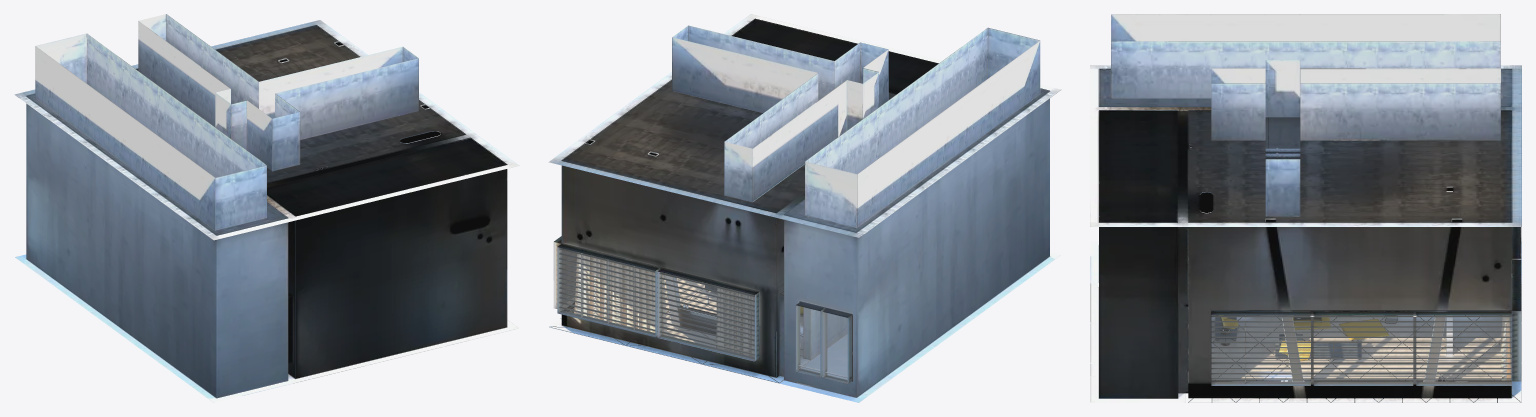
The picture shows the model from 3 angles, left to right: view 1: azimuth 30°, elevation 25°; view 2: azimuth 150°, elevation 25°; view 3: azimuth 270°, elevation 25°; orthographic projection. The views are drawn at different scales.
Visible parts, largest first — view 1: Cube.007_0; view 2: Cube.007_0, Plane.005_0, Cube.009_0, Cube.007_8, Plane.016_5, Cube.007_6; view 3: Cube.007_0, Plane.005_0, Cube.007_8, Cube.009_0, Cube.007_6, Cube.000_1, Plane.016_5, BezierCurve_0.
Boxes of the visible parts, x1,y1,x2,y2 form: Cube.007_0: [14, 14, 519, 402]; Cube.007_0: [548, 14, 1061, 402]; Plane.005_0: [559, 248, 846, 381]; Cube.009_0: [574, 254, 803, 356]; Cube.007_8: [549, 275, 810, 382]; Plane.016_5: [563, 302, 716, 334]; Cube.007_6: [585, 139, 680, 325]; Cube.007_0: [1090, 14, 1521, 402]; Plane.005_0: [1212, 314, 1510, 384]; Cube.007_8: [1188, 315, 1521, 402]; Cube.009_0: [1213, 315, 1510, 380]; Cube.007_6: [1265, 186, 1462, 381]; Cube.000_1: [1189, 317, 1520, 402]; Plane.016_5: [1211, 380, 1511, 381]; BezierCurve_0: [1189, 143, 1300, 213].
Size of the model in its own units: 13.72 by 9.24 by 15.48.
Materials: 23 (20 with a texture image).
